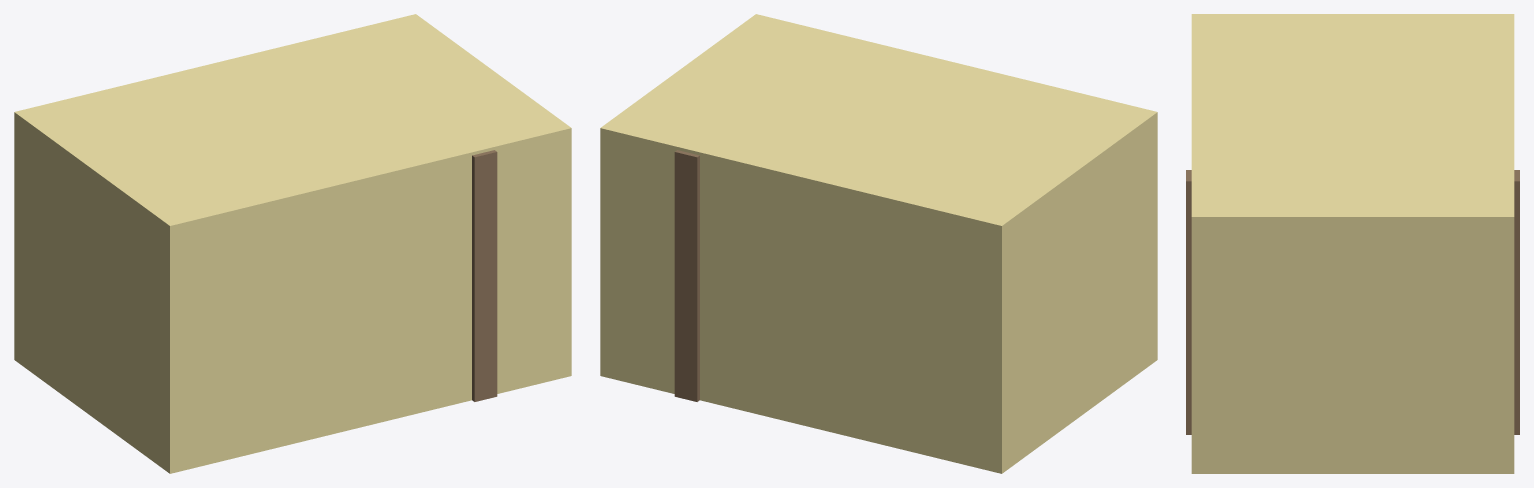
The model's file is Prop_Live_AMF_HayBale_V11.glb.
The picture shows the model from 3 angles, left to right: view 1: azimuth 30°, elevation 25°; view 2: azimuth 150°, elevation 25°; view 3: azimuth 270°, elevation 25°; orthographic projection. The views are drawn at different scales.
Parts seen in each view (by area): view 1: Prop_Live_AMF_HayBale_V11; view 2: Prop_Live_AMF_HayBale_V11; view 3: Prop_Live_AMF_HayBale_V11.
Boxes of the visible parts, x1=… form: Prop_Live_AMF_HayBale_V11: x1=14, y1=14, x2=571, y2=473; Prop_Live_AMF_HayBale_V11: x1=600, y1=14, x2=1157, y2=473; Prop_Live_AMF_HayBale_V11: x1=1186, y1=14, x2=1519, y2=473.
Bounding box in the file's own units: 0.8929 × 0.5266 × 0.62.
